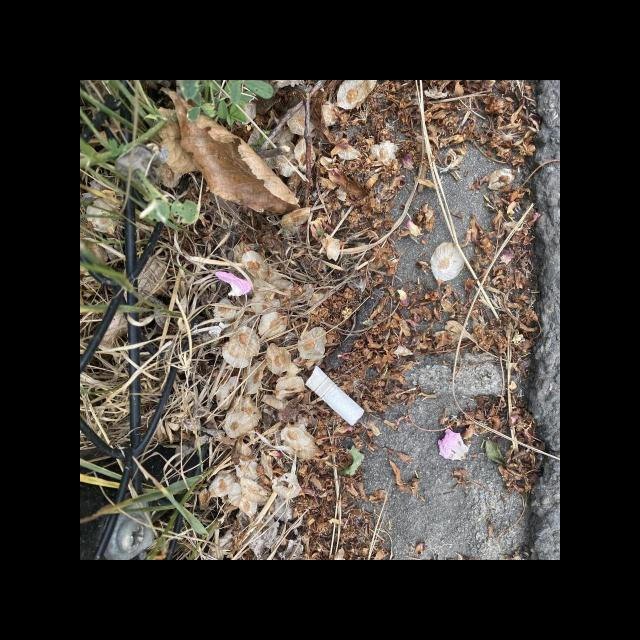cigarette: (304, 365, 365, 426)
